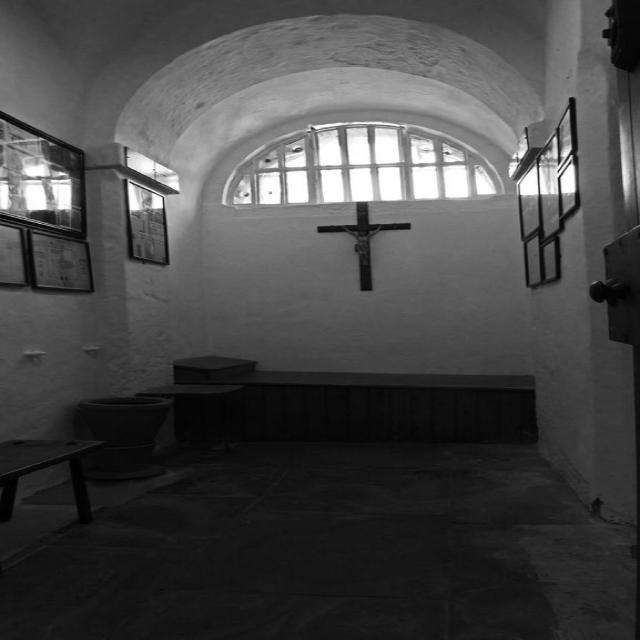table: (0, 425, 113, 537)
